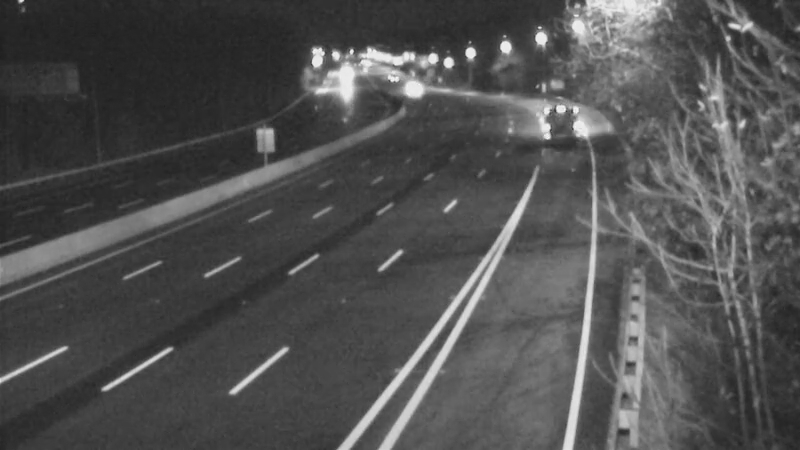vehicle: (390, 66, 440, 116), (524, 88, 574, 138), (320, 55, 370, 105)
